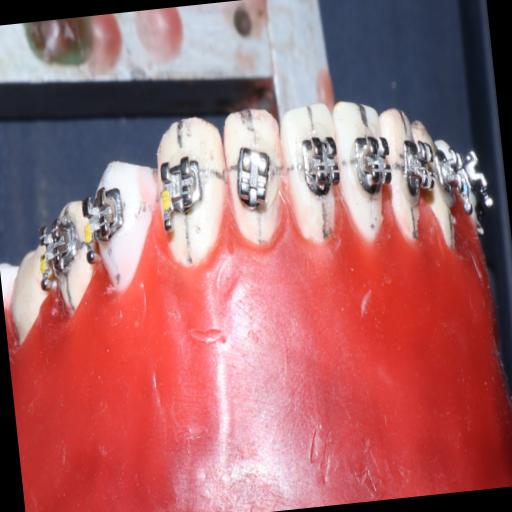correct_brace: (296, 128, 346, 202)
incorrect_brace: (218, 100, 292, 255), (152, 144, 212, 242), (231, 142, 280, 214)
